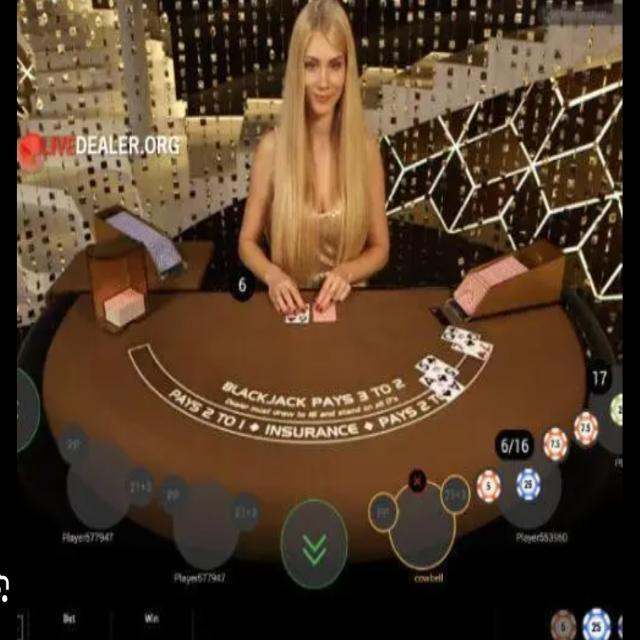Card-5: (415, 354, 459, 386)
Card-6: (286, 302, 309, 323)
Card-7: (451, 340, 494, 362)
Card-A: (419, 373, 465, 402)
Card-Q: (441, 325, 481, 349)
